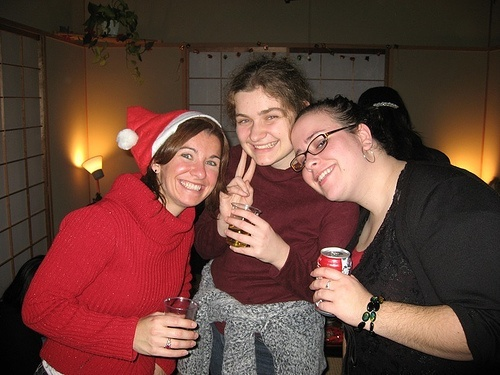head: (289, 95, 377, 200), (356, 85, 445, 163), (150, 117, 225, 208), (225, 71, 300, 162)
person: (185, 40, 362, 375), (293, 91, 498, 372), (14, 104, 224, 375)
